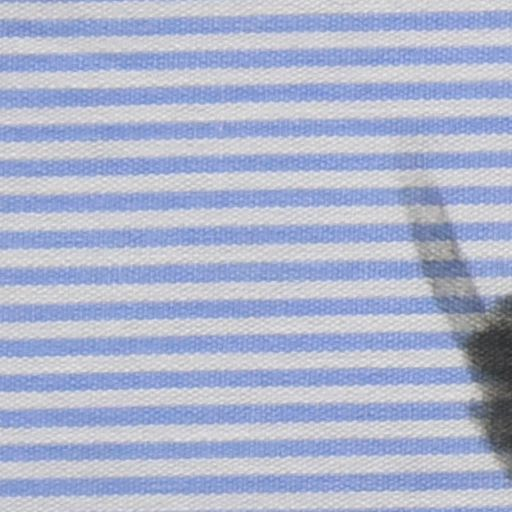defect: (402, 188, 512, 472)
